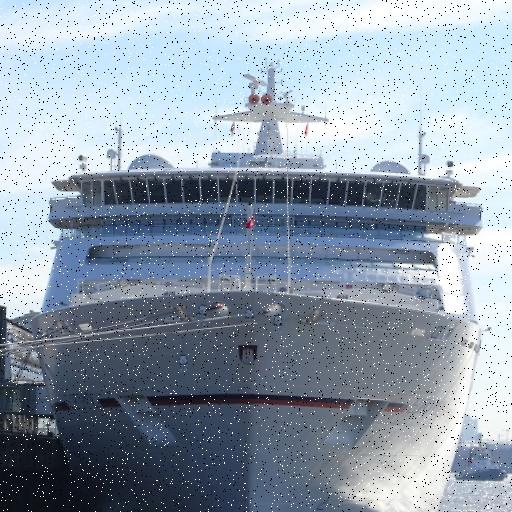cruises: (20, 59, 499, 512)
